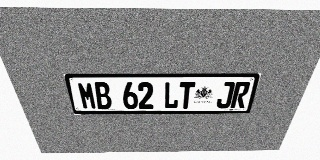2: (137, 82, 153, 109)
6: (121, 82, 138, 109)
B: (93, 82, 112, 109)
J: (216, 82, 236, 108)
L: (164, 82, 180, 109)
M: (77, 82, 97, 109)
R: (230, 82, 251, 108)
T: (178, 82, 195, 109)
